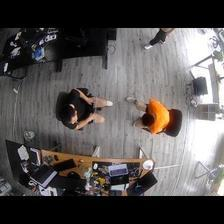normal: (56, 83, 114, 130), (126, 94, 180, 136)
